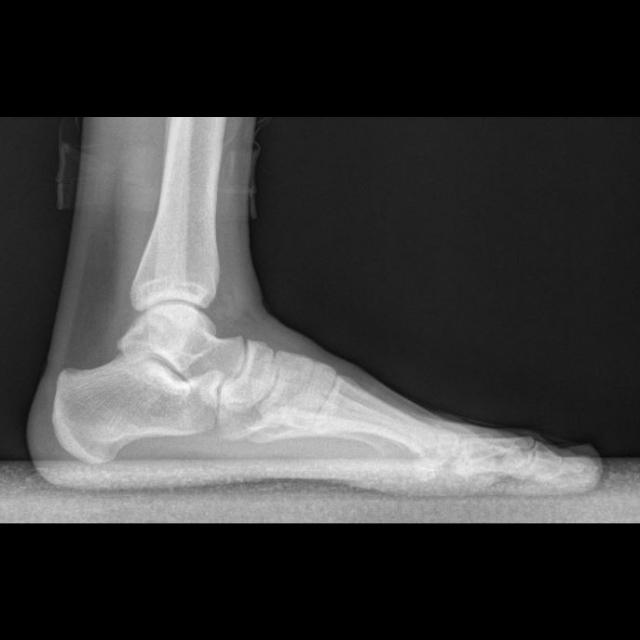a: (52, 352, 225, 462)
b: (220, 338, 274, 408)
c: (311, 377, 463, 482)
